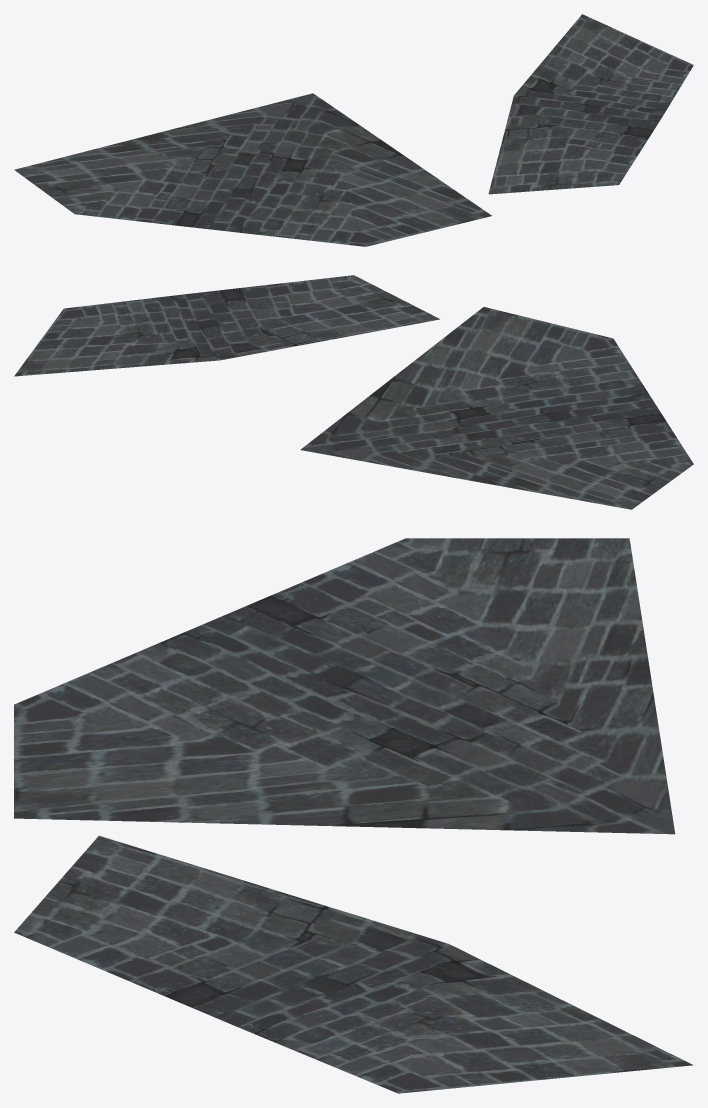
The model's file is blend_brick10.fbx.
3 views of the same model, one above another, from view 1: azimuth 30°, elevation 25°; view 2: azimuth 150°, elevation 25°; view 3: azimuth 270°, elevation 25° (orthographic). The views are drawn at different scales.
Parts seen in each view (by area): view 1: new_stone/brick_blend_shadow; view 2: new_stone/brick_blend_shadow; view 3: new_stone/brick_blend_shadow.
Part boxes in pixels (x1,y1,x2,y2): new_stone/brick_blend_shadow: (14, 14, 693, 246); new_stone/brick_blend_shadow: (14, 275, 693, 509); new_stone/brick_blend_shadow: (14, 538, 693, 1093).
Size of the model in its own units: 13.06 by 0.1726 by 6.76.
